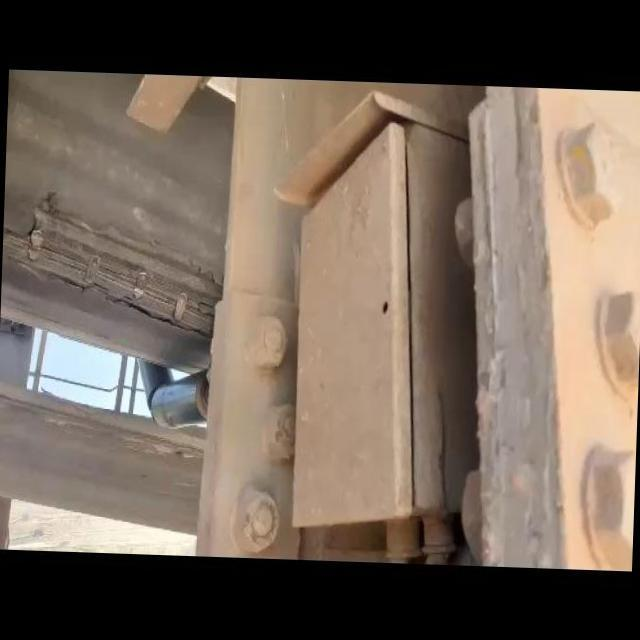Tear: (3, 189, 224, 345)
